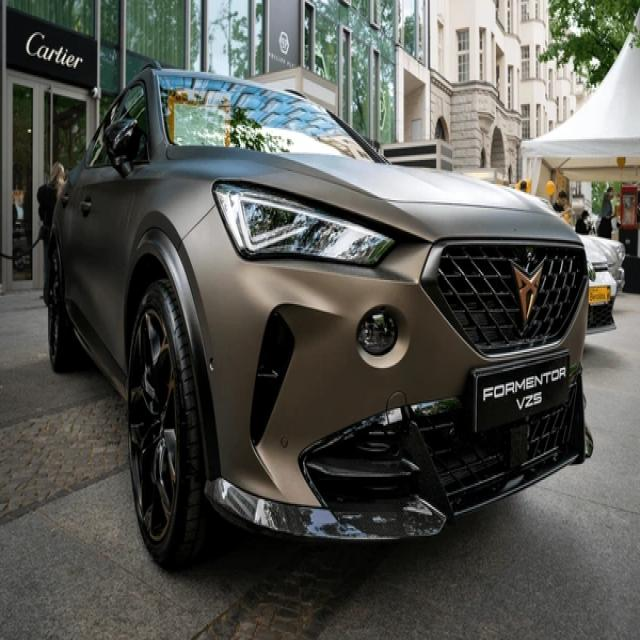cupra: (512, 261, 544, 329)
